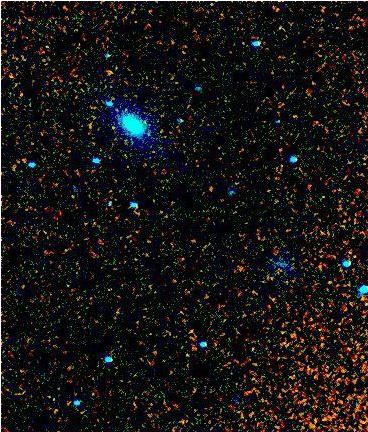star: (195, 173, 225, 203)
